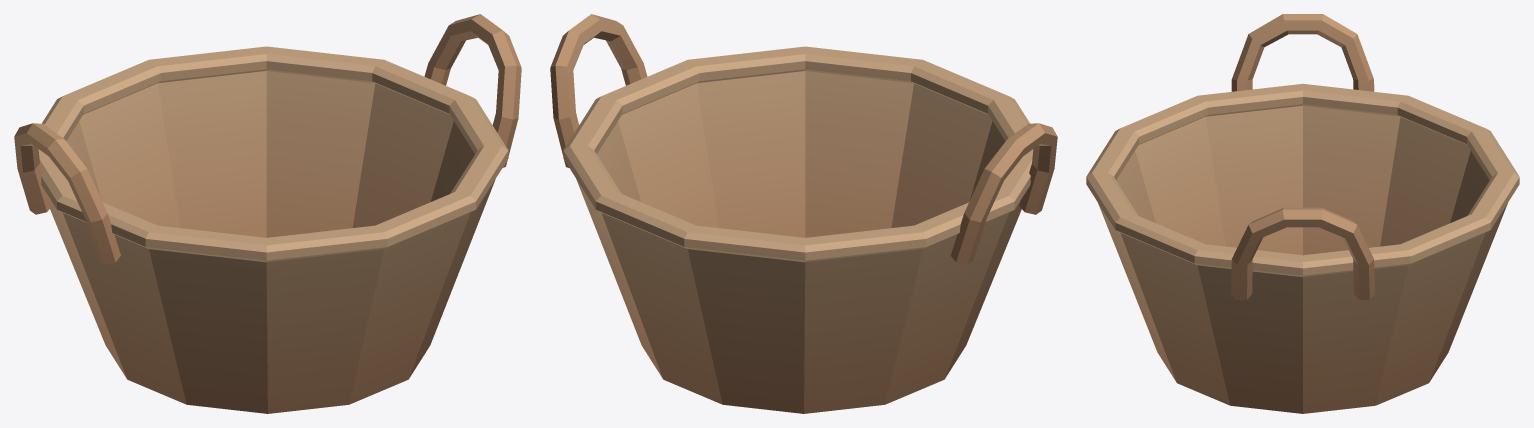
File: basket.glb
3 renders of one model, left to right at view 1: azimuth 30°, elevation 25°; view 2: azimuth 150°, elevation 25°; view 3: azimuth 270°, elevation 25°, orthographic. The views are drawn at different scales.
Visible parts, largest first — view 1: basket; view 2: basket; view 3: basket.
Part boxes in pixels (box(x1,y1,x2,y2)): basket: box(14, 14, 521, 413); basket: box(550, 14, 1057, 413); basket: box(1086, 14, 1519, 413).
Size of the model in its own units: 0.7955 by 0.4422 by 0.7222.
Materials: 1 (1 with a texture image).
